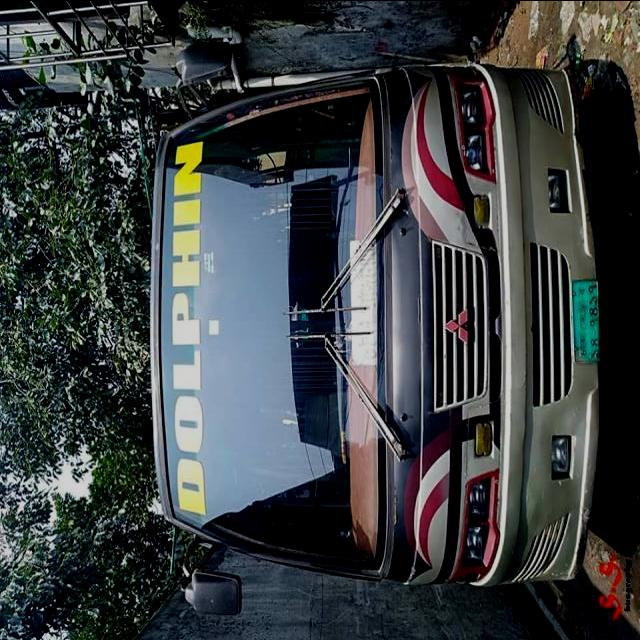bus: (149, 38, 601, 618)
